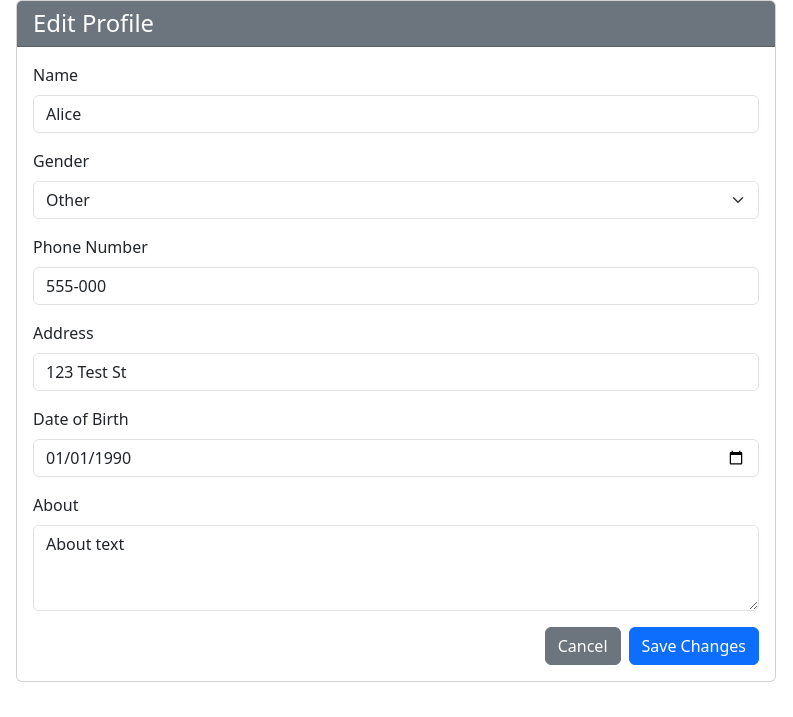
Scenario: <EditProfileForm /> › supports error details nested under "detail"
The image size is (793, 717).
# Change name to include it in payload (empty → null)
Clear the field labelled "Name": (396, 114) [33, 95, 759, 133]
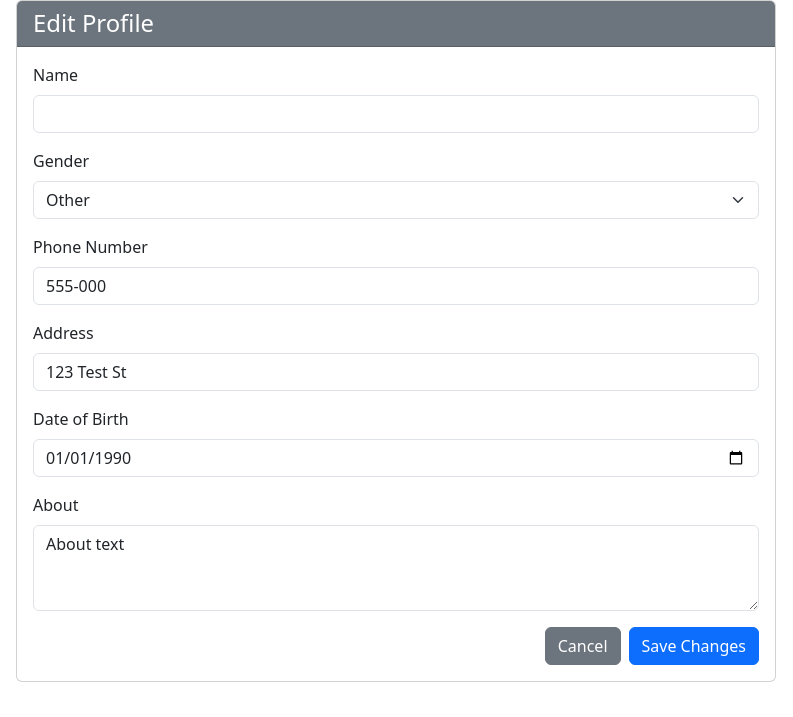
Click the button "Save Changes": (694, 646) [628, 627, 759, 665]
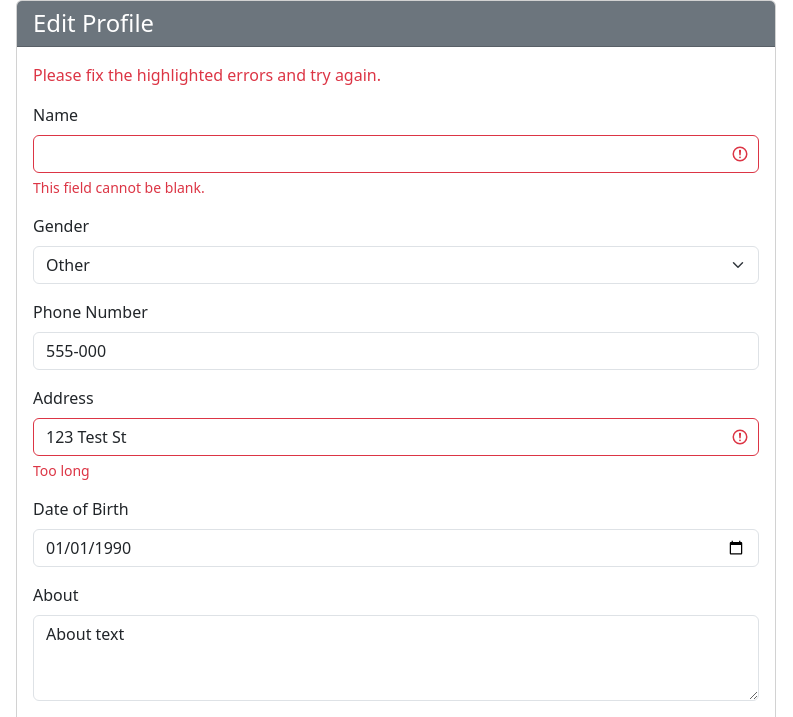
Expected: the text "Please fix the highlighted errors and try again." is shown, [33, 64, 381, 86]
Expected: the text "This field cannot be blank." is shown, [33, 178, 205, 197]
Expected: the text "Too long" is shown, [33, 461, 90, 480]
